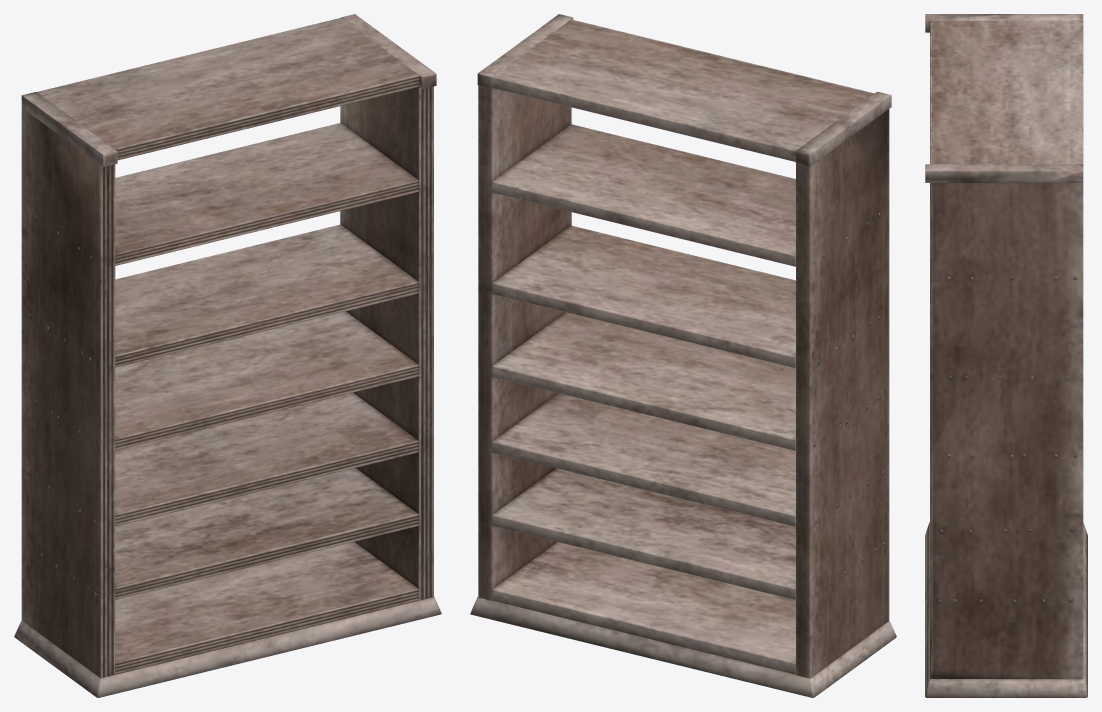
Rendered from ph_wooden_bookshelf_worn.glb.
3 views of the same model, side by side, from view 1: azimuth 30°, elevation 25°; view 2: azimuth 150°, elevation 25°; view 3: azimuth 270°, elevation 25° (orthographic). The views are drawn at different scales.
Parts seen in each view (by area): view 1: wooden_bookshelf_worn; view 2: wooden_bookshelf_worn; view 3: wooden_bookshelf_worn.
Part boxes in pixels (left/top/right/bottom): wooden_bookshelf_worn: left=14, top=14, right=441, bottom=697; wooden_bookshelf_worn: left=470, top=14, right=896, bottom=697; wooden_bookshelf_worn: left=925, top=14, right=1087, bottom=697.
Size of the model in its own units: 1.37 by 2.06 by 0.5814.
1 material, 1 textured.
